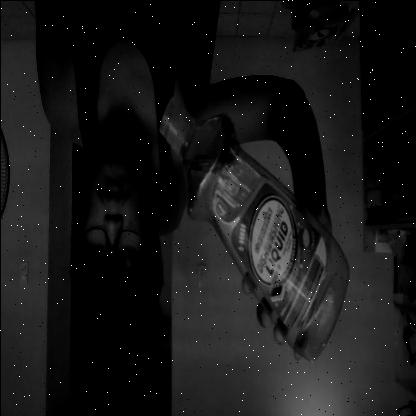Plastic Bottle: (154, 88, 353, 358)
